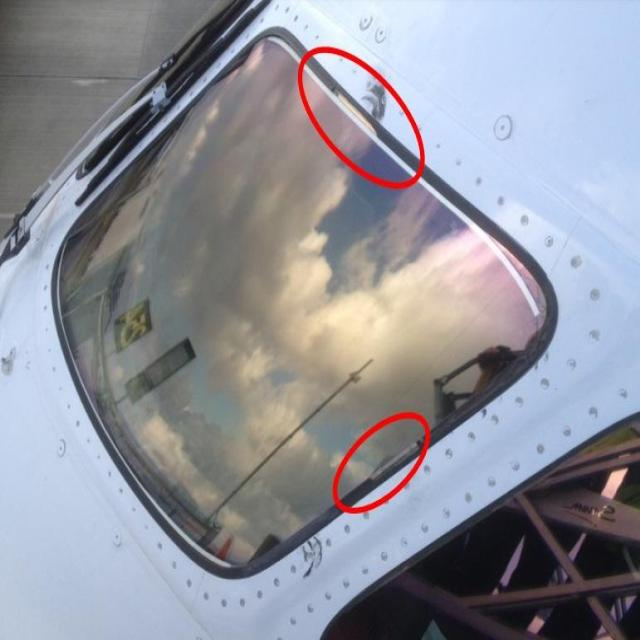Rupture: (363, 82, 385, 119)
